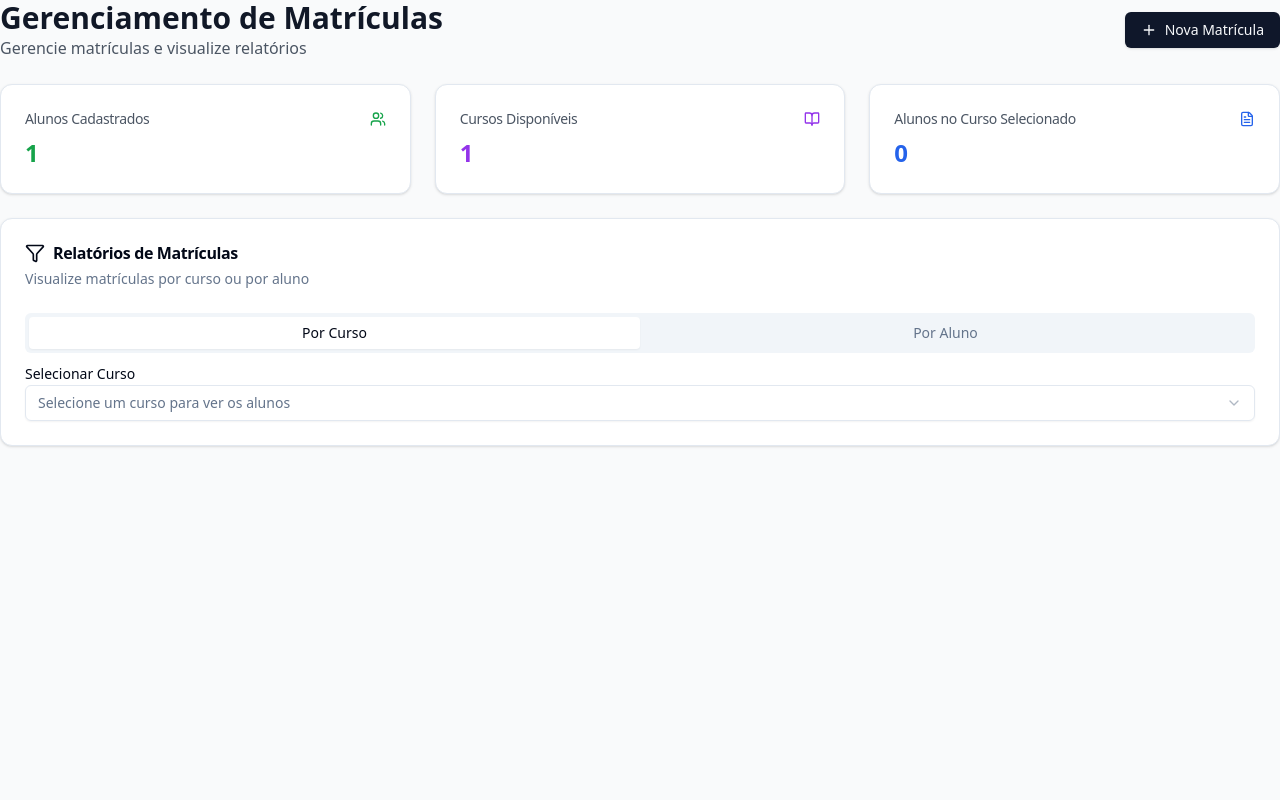
it: MatriculasPage › deve mostrar formulário de nova matrícula
Click the button "Nova Matrícula" at x=1202, y=30, box [1125,12,1279,48]
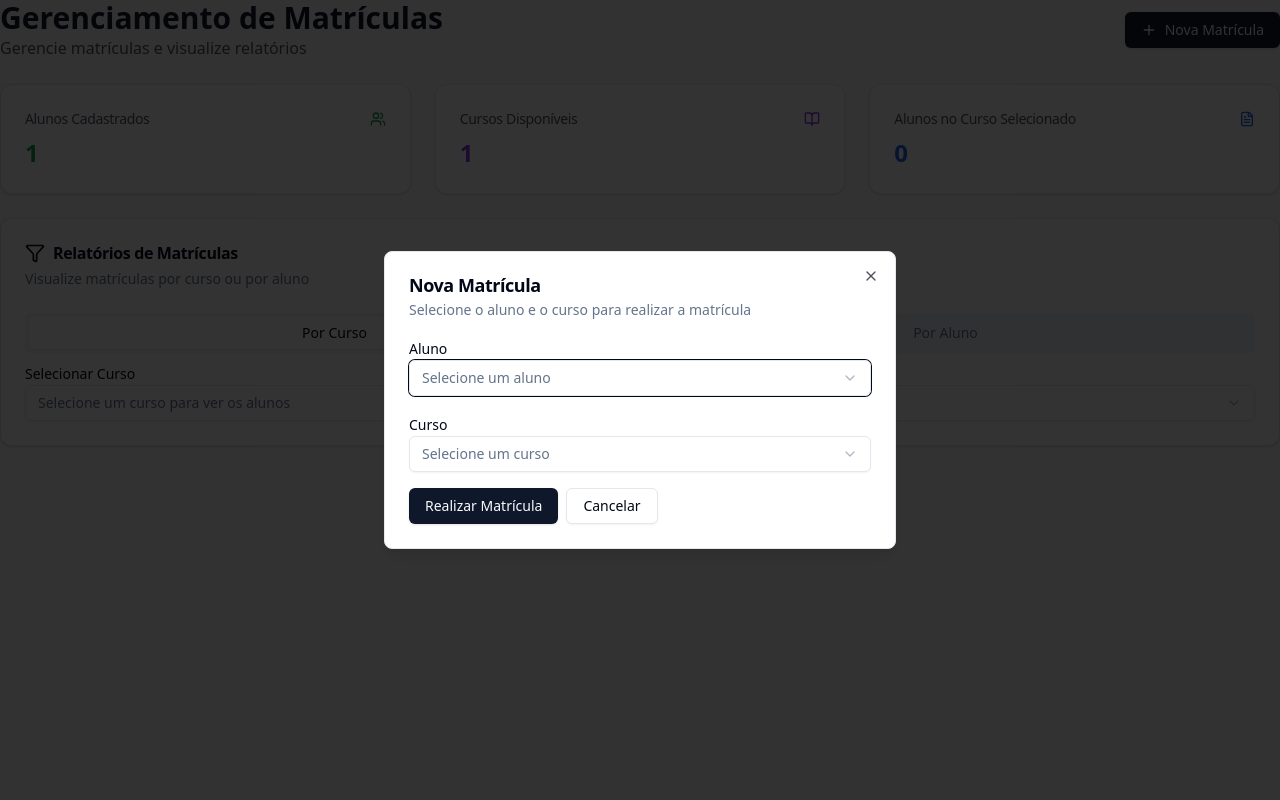
Check: the text "Selecione o aluno e o curso para realizar a matrícula" is shown, box [409,300,751,319]
